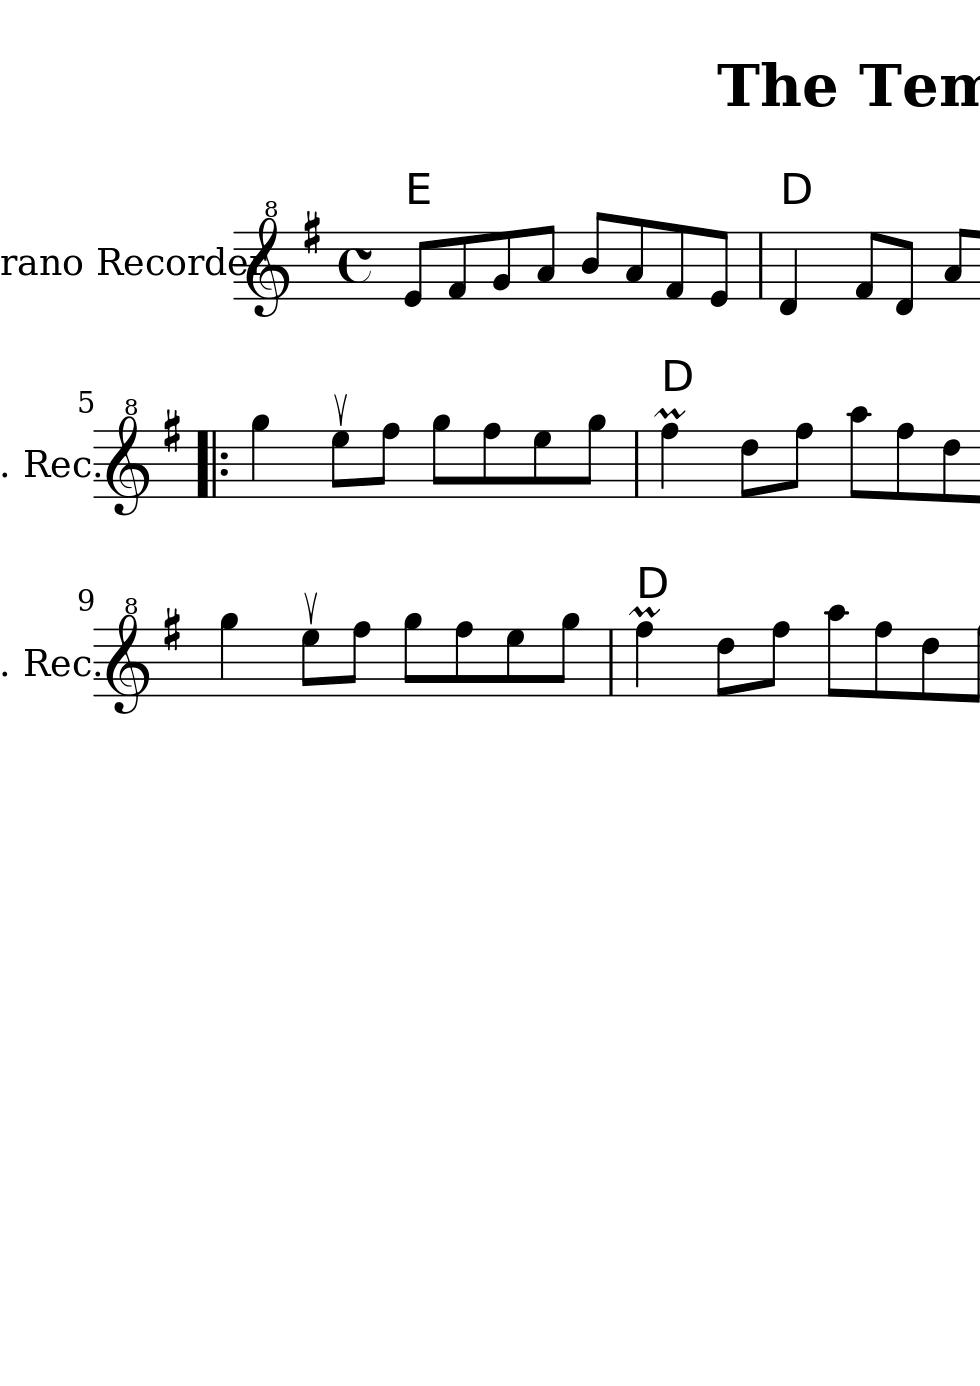4_-1: (775, 229, 799, 317)
4_8: (657, 422, 680, 501), (632, 620, 655, 699)
4_9: (248, 413, 272, 501), (217, 611, 239, 698)
5: (77, 387, 95, 416)
8_-1: (892, 230, 915, 318)
8_0: (401, 230, 428, 310), (706, 228, 731, 309)
8_1: (852, 230, 882, 302), (662, 221, 686, 301), (445, 230, 468, 302)
8_10: (824, 603, 848, 700), (847, 405, 872, 501)
8_2: (491, 228, 513, 302)
8_3: (942, 227, 969, 301), (623, 217, 647, 301), (533, 223, 556, 302)
8_4: (579, 211, 608, 302)
8_6: (940, 429, 962, 506), (918, 628, 940, 705), (714, 627, 736, 700), (738, 429, 759, 501)
8_7: (329, 429, 351, 501), (530, 429, 553, 501), (503, 627, 525, 698), (300, 627, 321, 698)
8_8: (784, 421, 813, 501), (762, 618, 790, 700), (371, 421, 400, 501), (343, 620, 371, 698), (871, 619, 894, 702), (894, 421, 916, 504), (479, 421, 502, 501), (452, 620, 474, 700)
8_9: (550, 612, 580, 699), (577, 413, 606, 501), (430, 413, 453, 501), (401, 611, 424, 699)
9: (76, 586, 94, 614)
High_Gclef: (102, 398, 148, 516), (102, 597, 147, 716), (247, 200, 288, 318)
LeftRepeatSign: (194, 429, 229, 501)
Rec: (23, 646, 93, 679), (97, 245, 164, 278), (22, 448, 92, 479)
Sharp: (301, 209, 322, 258), (161, 606, 182, 654), (161, 408, 182, 455)
ShortTrill: (651, 404, 687, 420)
Single_barline: (628, 431, 645, 496), (603, 629, 620, 695), (752, 232, 768, 299)
TimeSig: (338, 231, 375, 302)
Tremolo_bar: (301, 591, 319, 625), (331, 392, 348, 427)
Turn: (626, 603, 662, 620)
